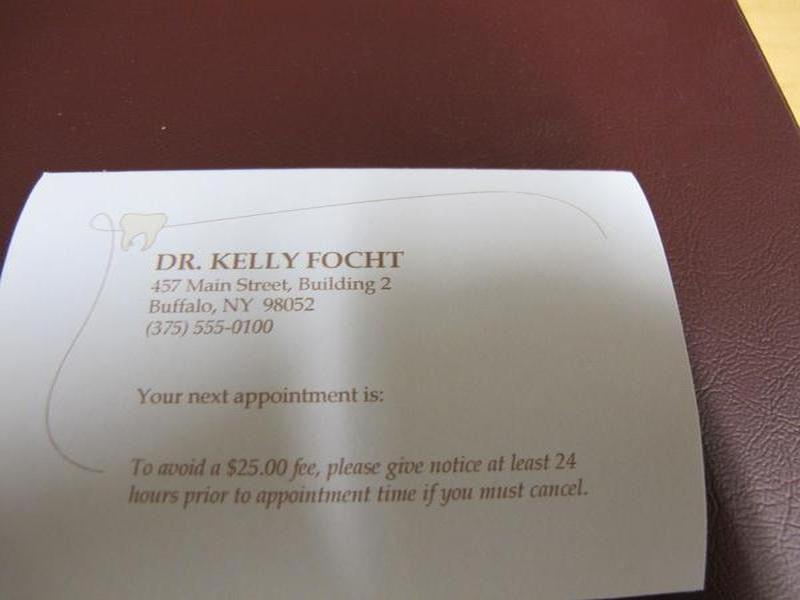card: (4, 161, 712, 596)
